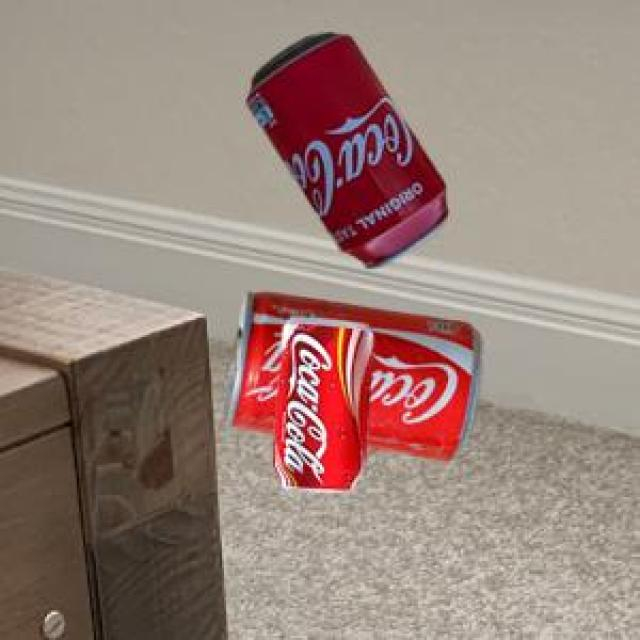logam: (244, 31, 445, 266), (224, 289, 479, 458), (270, 315, 370, 487)
